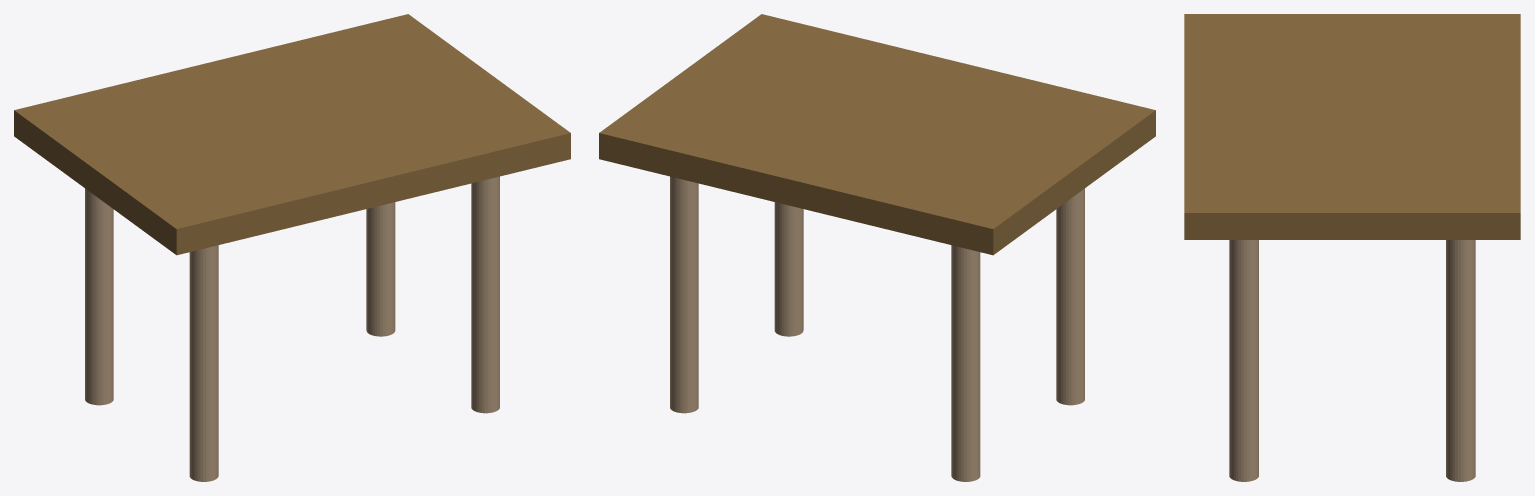
File: Copy of table.glb
3 renders of one model, left to right at view 1: azimuth 30°, elevation 25°; view 2: azimuth 150°, elevation 25°; view 3: azimuth 270°, elevation 25°, orthographic. The views are drawn at different scales.
Parts seen in each view (by area): view 1: Mesh_Mesh_head_geo.001_lambert2SG.001; view 2: Mesh_Mesh_head_geo.001_lambert2SG.001; view 3: Mesh_Mesh_head_geo.001_lambert2SG.001.
Boxes of the visible parts, left/top/right/bottom form: Mesh_Mesh_head_geo.001_lambert2SG.001: left=14, top=14, right=570, bottom=481; Mesh_Mesh_head_geo.001_lambert2SG.001: left=599, top=14, right=1155, bottom=481; Mesh_Mesh_head_geo.001_lambert2SG.001: left=1184, top=14, right=1520, bottom=481.
Size of the model in its own units: 63 by 43 by 45.
